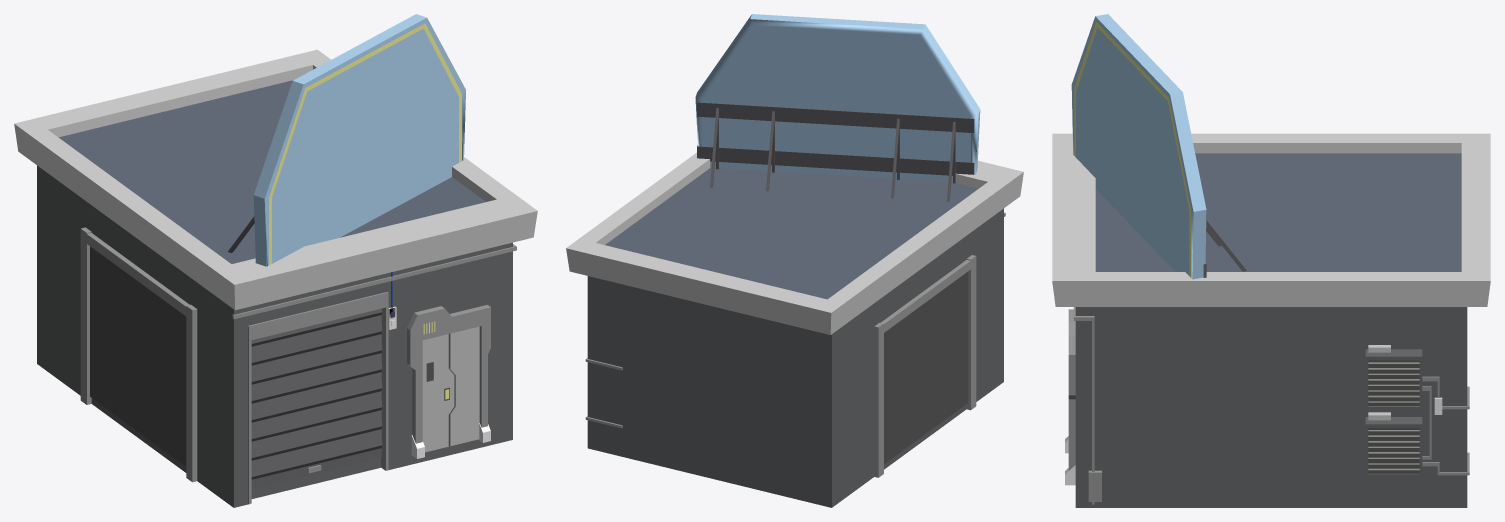
Rendered from Maintenance_Office.fbx.
3 renders of one model, left to right at view 1: azimuth 30°, elevation 25°; view 2: azimuth 150°, elevation 25°; view 3: azimuth 270°, elevation 25°, orthographic. The views are drawn at different scales.
Visible parts, largest first — view 1: Maintenance_Office; view 2: Maintenance_Office; view 3: Maintenance_Office.
Part boxes in pixels (x1=…): Maintenance_Office: x1=14, y1=14, x2=537, y2=507; Maintenance_Office: x1=566, y1=14, x2=1023, y2=507; Maintenance_Office: x1=1052, y1=14, x2=1490, y2=507.
Bounding box in the file's own units: 23.59 × 29.28 × 29.47.
